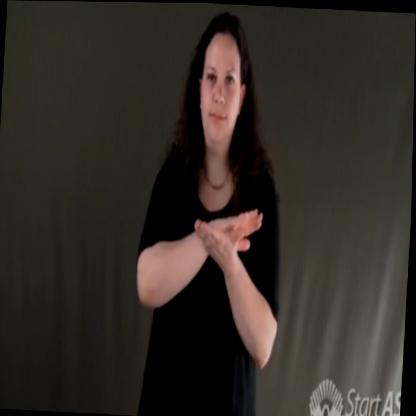NiceToMeetYou: (192, 182, 270, 282)
